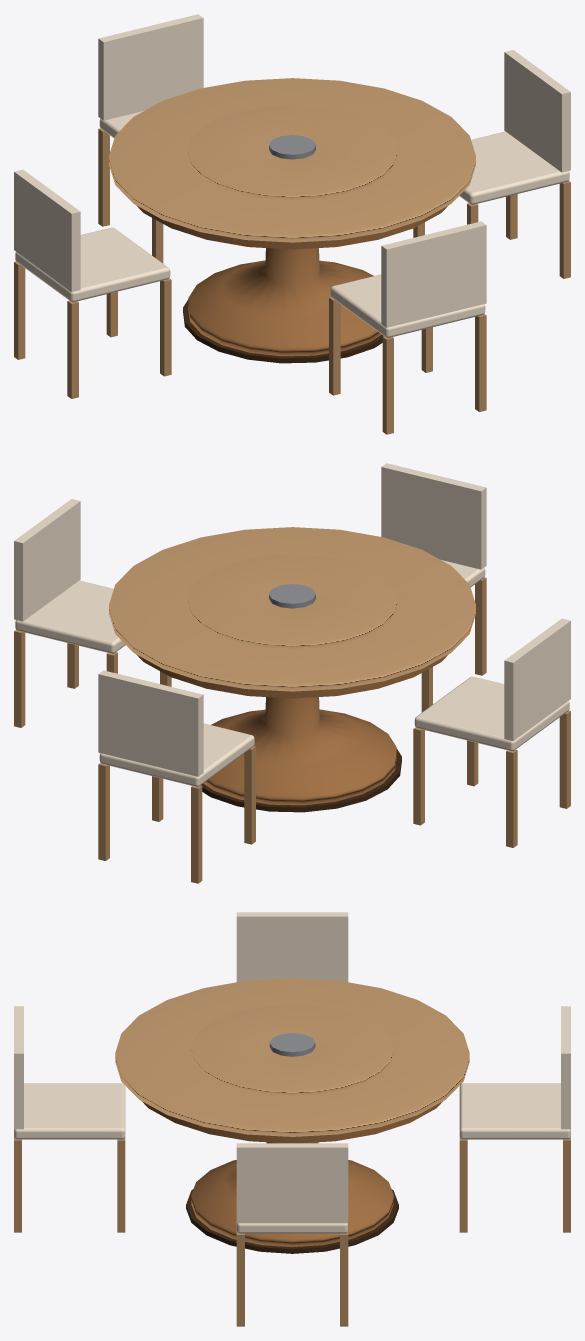
File: rounddiningtable_turntable-lite.glb
The picture shows the model from 3 angles, top to bottom: view 1: azimuth 30°, elevation 25°; view 2: azimuth 150°, elevation 25°; view 3: azimuth 270°, elevation 25°; orthographic projection. The views are drawn at different scales.
Parts seen in each view (by area): view 1: material-0-top, material-5-cushion, material-2-body, material-4-leg, material-3-trim, material-1-base, material-6-metal; view 2: material-0-top, material-5-cushion, material-2-body, material-4-leg, material-3-trim, material-1-base, material-6-metal; view 3: material-0-top, material-5-cushion, material-2-body, material-4-leg, material-3-trim, material-1-base, material-6-metal.
Part boxes in pixels (left/top/right/bottom): material-0-top: left=109, top=78, right=475, bottom=242; material-5-cushion: left=14, top=14, right=570, bottom=337; material-2-body: left=188, top=248, right=381, bottom=356; material-4-leg: left=14, top=128, right=570, bottom=434; material-3-trim: left=136, top=205, right=448, bottom=249; material-1-base: left=183, top=299, right=383, bottom=363; material-6-metal: left=269, top=135, right=315, bottom=159; material-0-top: left=109, top=527, right=475, bottom=691; material-5-cushion: left=14, top=463, right=570, bottom=786; material-2-body: left=203, top=697, right=396, bottom=805; material-4-leg: left=14, top=577, right=570, bottom=883; material-3-trim: left=136, top=654, right=448, bottom=698; material-1-base: left=201, top=748, right=401, bottom=812; material-6-metal: left=269, top=584, right=315, bottom=608; material-0-top: left=115, top=978, right=469, bottom=1136; material-5-cushion: left=14, top=912, right=570, bottom=1233; material-2-body: left=191, top=1142, right=393, bottom=1247; material-4-leg: left=14, top=1137, right=570, bottom=1326; material-3-trim: left=142, top=1101, right=442, bottom=1143; material-1-base: left=186, top=1189, right=398, bottom=1253; material-6-metal: left=269, top=1033, right=315, bottom=1056.
Size of the model in its own units: 2.2 by 0.78 by 2.2.
